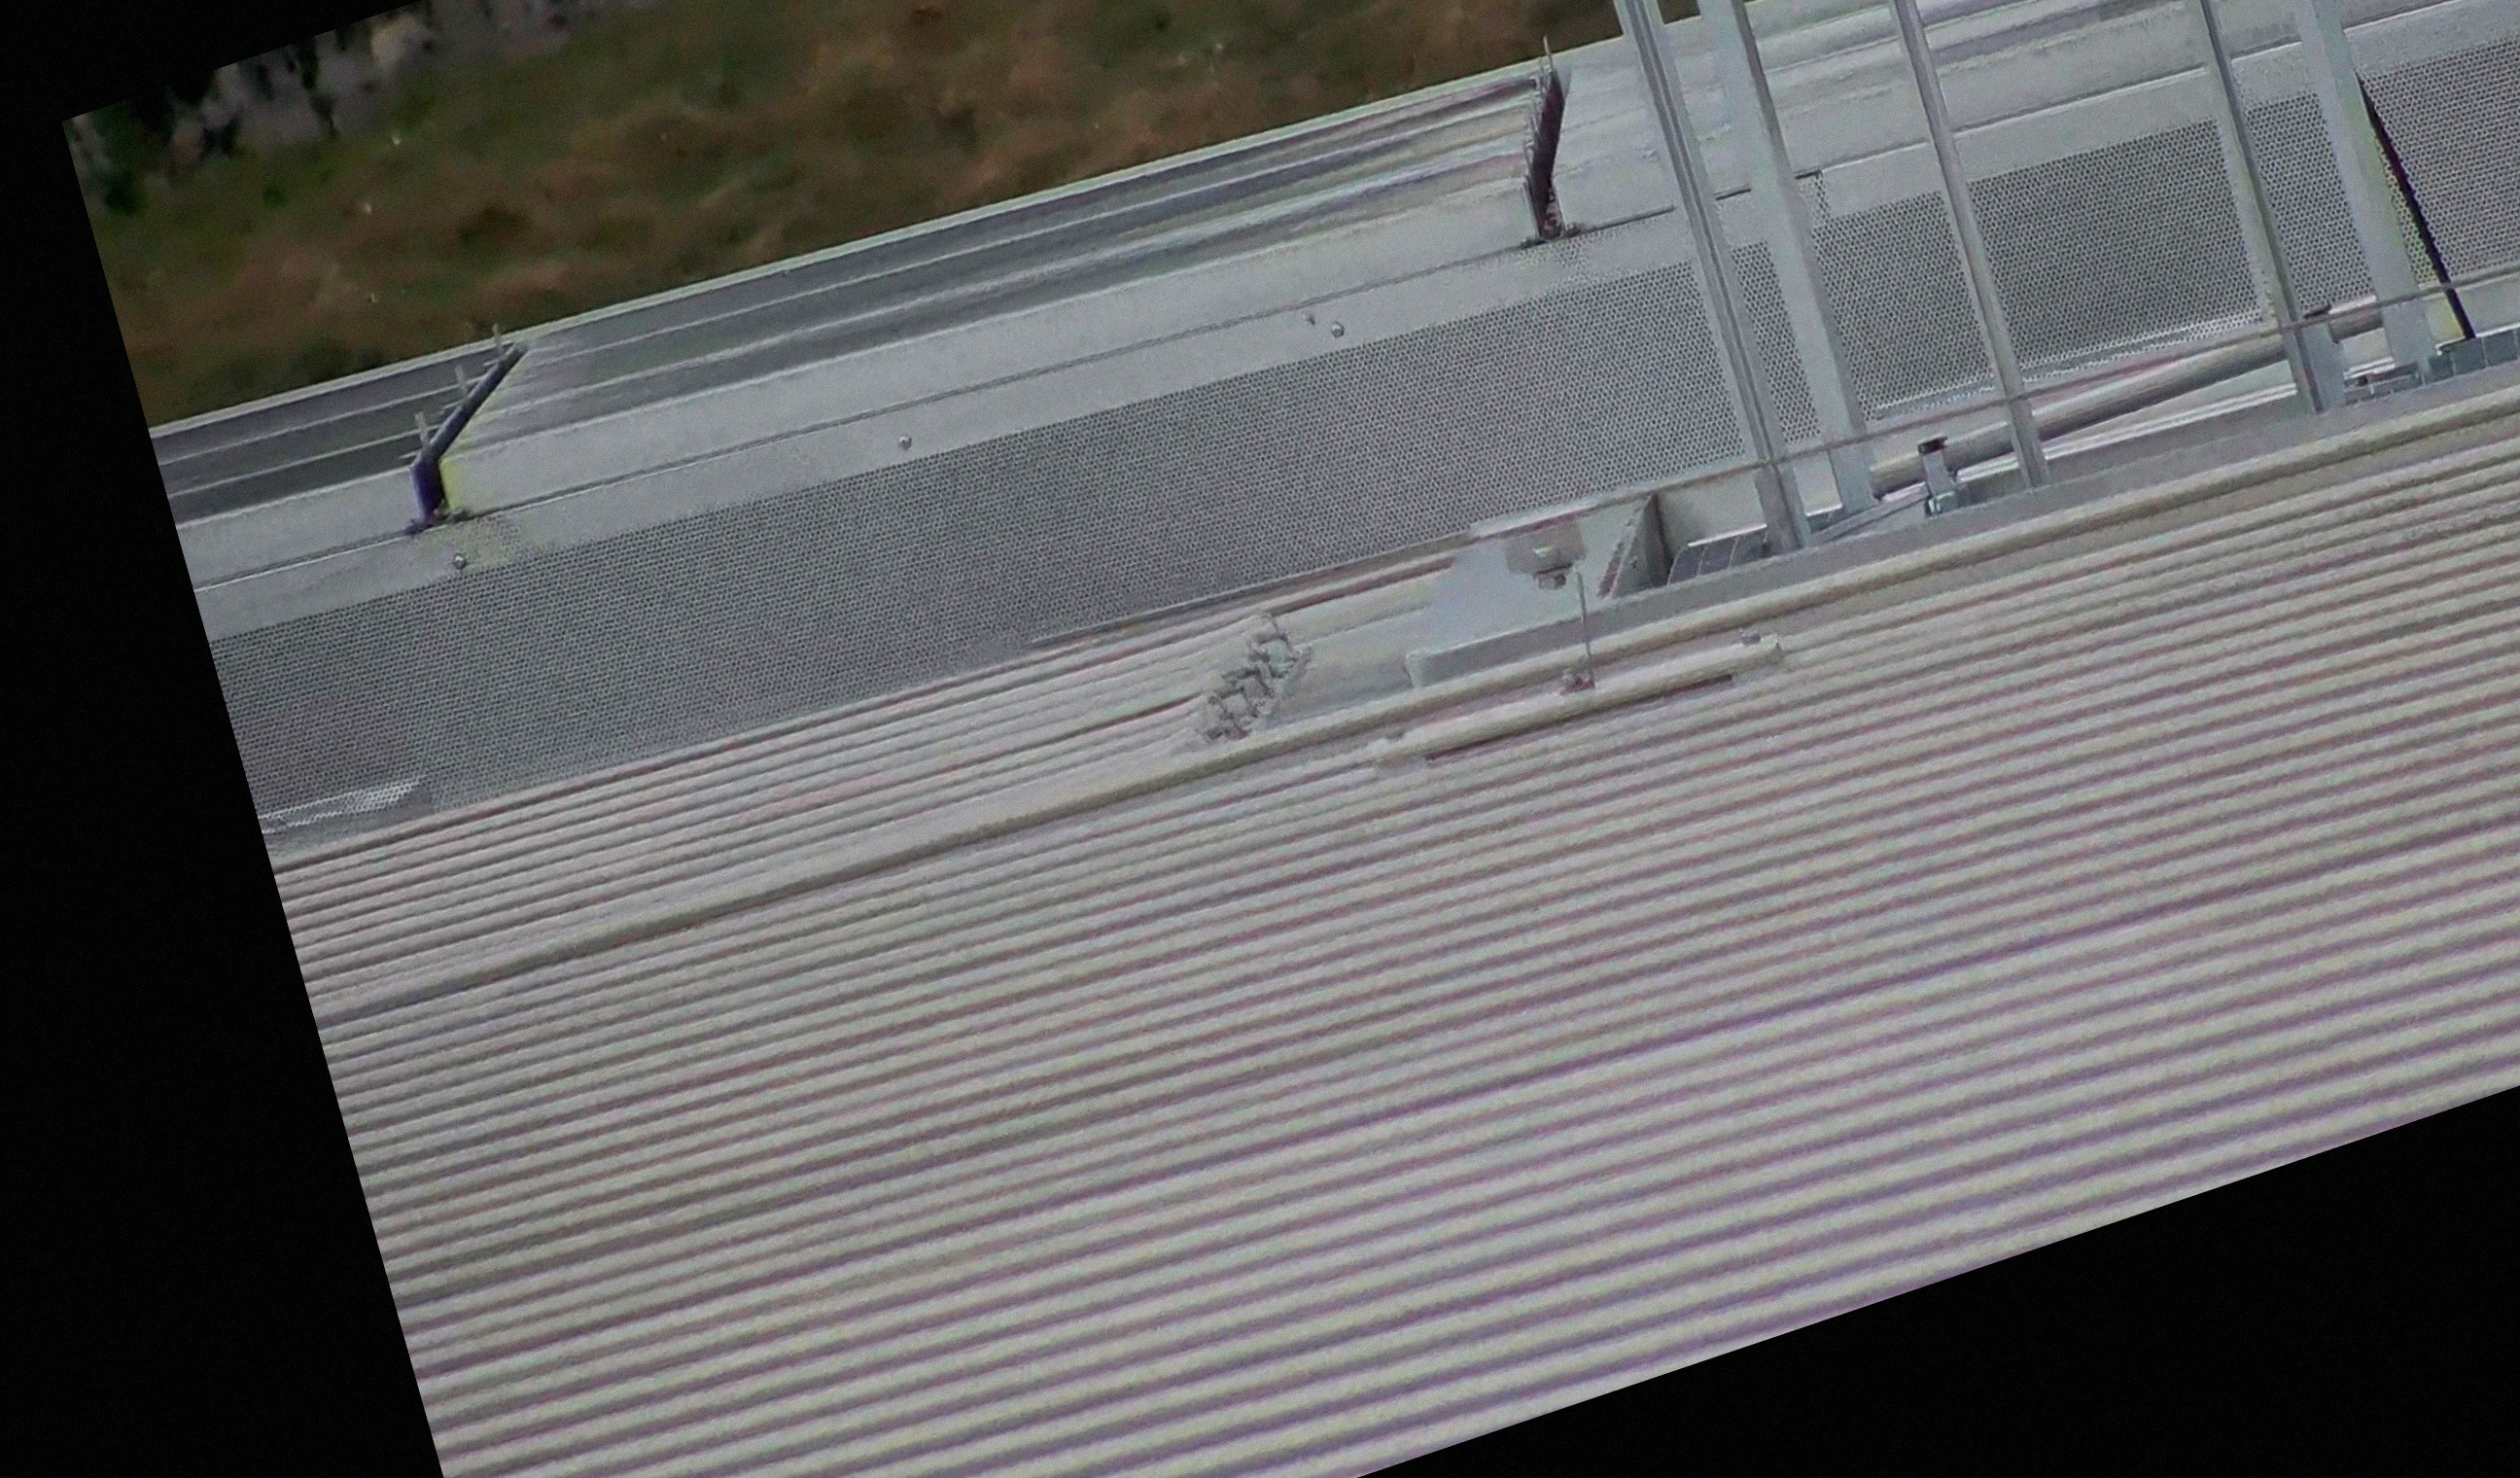Other: (1454, 23, 1625, 262)
